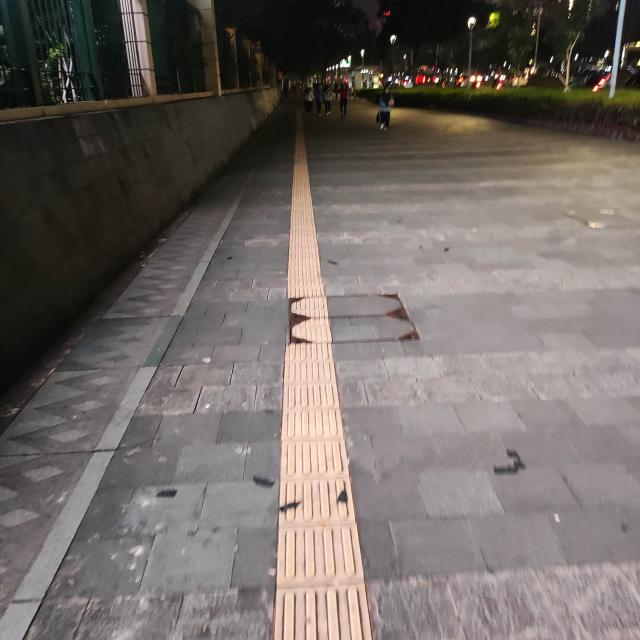lurus: (275, 142, 357, 640)
